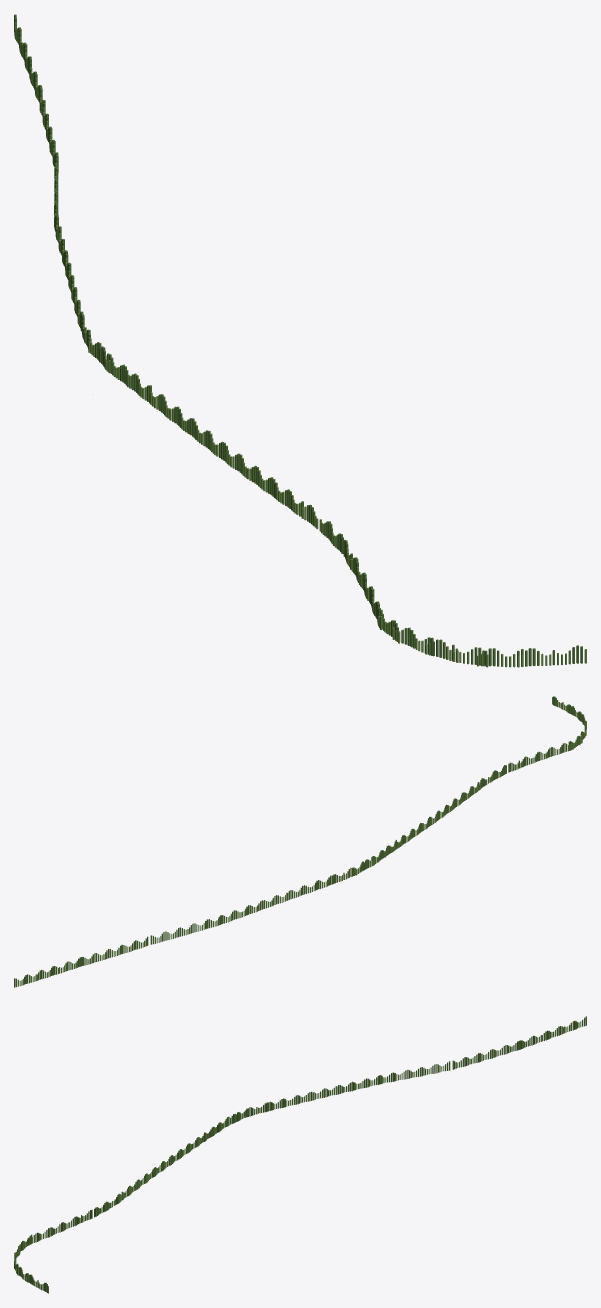
The model's file is pp_cactusfence.glb.
3 views of the same model, one above another, from view 1: azimuth 30°, elevation 25°; view 2: azimuth 150°, elevation 25°; view 3: azimuth 330°, elevation 25° (orthographic). The views are drawn at different scales.
Parts seen in each view (by area): view 1: pp_cactusfence_lod0; view 2: pp_cactusfence_lod0; view 3: pp_cactusfence_lod0.
Part boxes in pixels (x1,y1,x2,y2): pp_cactusfence_lod0: (14,14,586,667); pp_cactusfence_lod0: (14,696,586,987); pp_cactusfence_lod0: (14,1016,586,1293).
Size of what is drawn, in the model's own units: 56.49 by 6.34 by 220.
